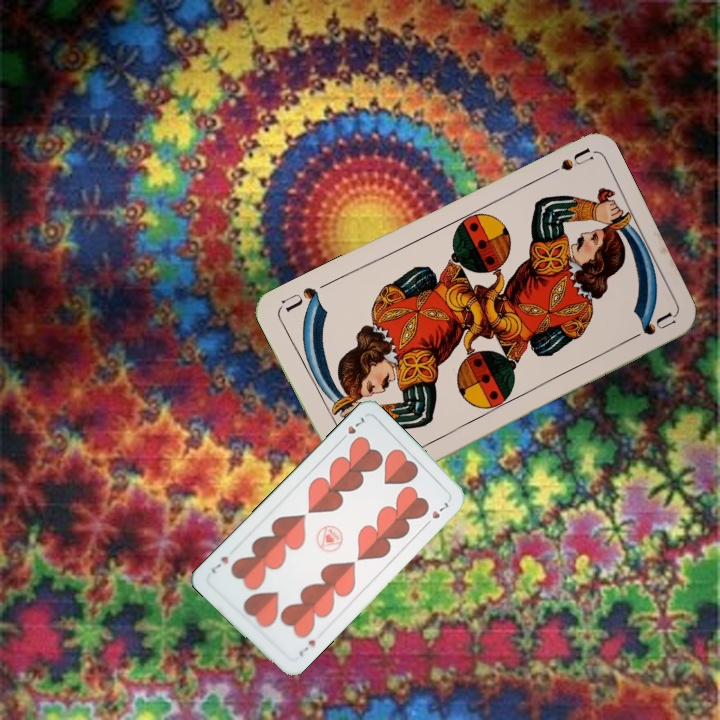H7: (336, 413, 369, 444), (294, 636, 318, 659)
SU: (537, 145, 594, 181)
